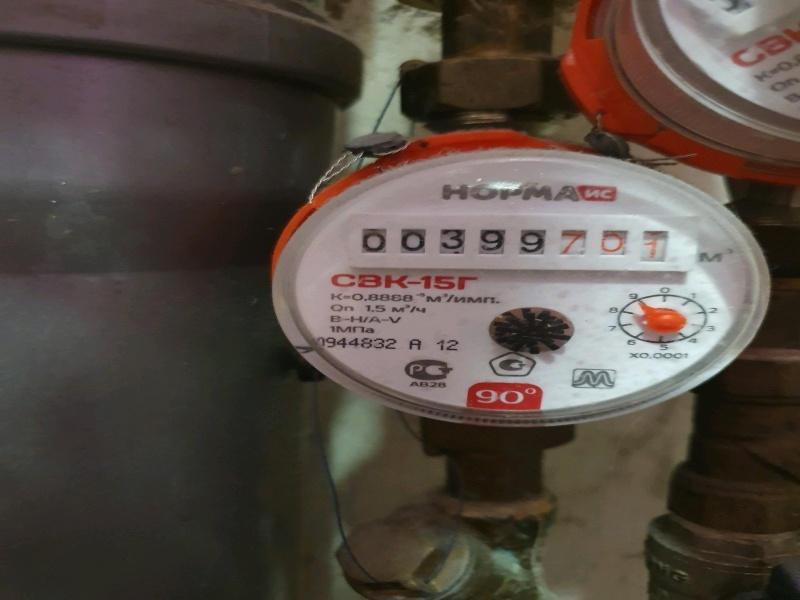dial: (356, 217, 684, 271)
